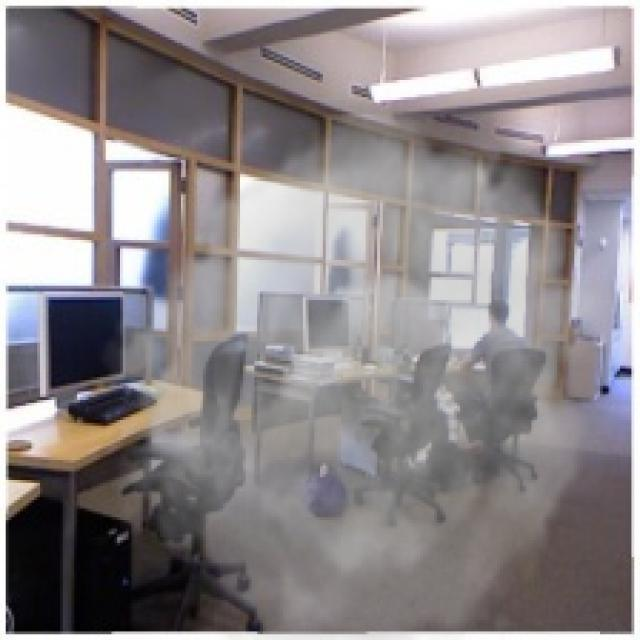Smoke: (97, 114, 626, 637)
